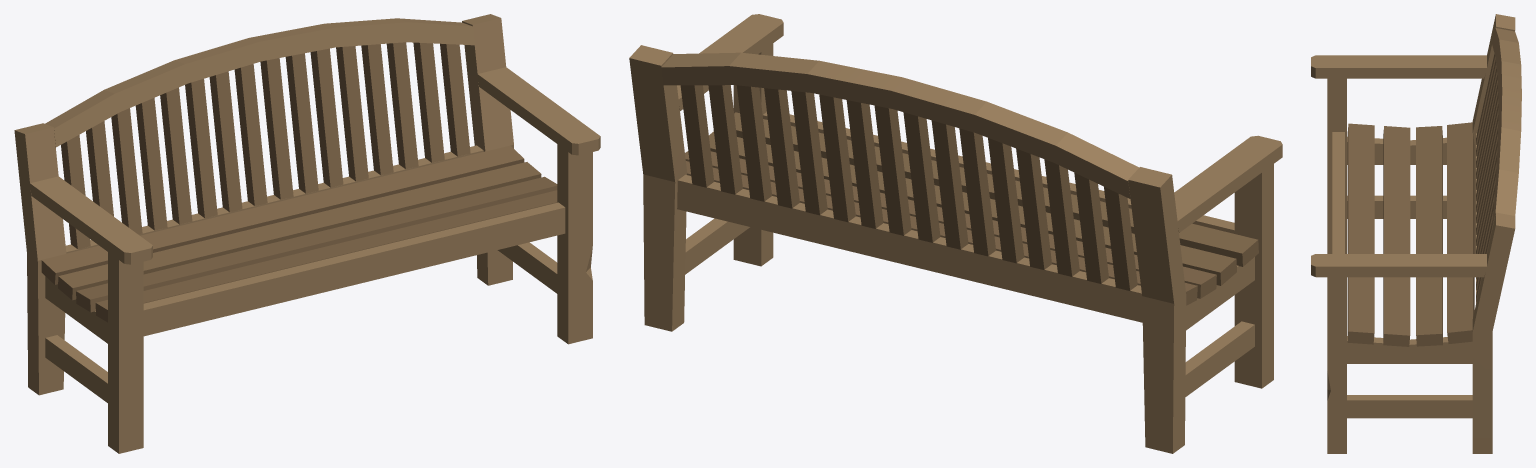
The model's file is SM_Prop_Bench_05.obj.
3 renders of one model, left to right at view 1: azimuth 30°, elevation 25°; view 2: azimuth 150°, elevation 25°; view 3: azimuth 270°, elevation 25°, orthographic. The views are drawn at different scales.
Parts seen in each view (by area): view 1: SM_Prop_Bench_05_0; view 2: SM_Prop_Bench_05_0; view 3: SM_Prop_Bench_05_0.
Part boxes in pixels (x1=…): SM_Prop_Bench_05_0: x1=14, y1=14, x2=600, y2=453; SM_Prop_Bench_05_0: x1=629, y1=14, x2=1282, y2=453; SM_Prop_Bench_05_0: x1=1311, y1=14, x2=1521, y2=453.
Size of the model in its own units: 1.79 by 1.02 by 0.757.
Materials: 1 (1 with a texture image).
